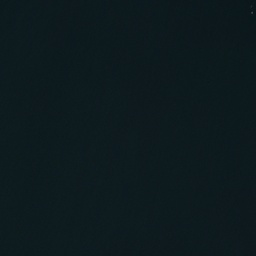Marine Debris: (250, 11, 254, 14)
